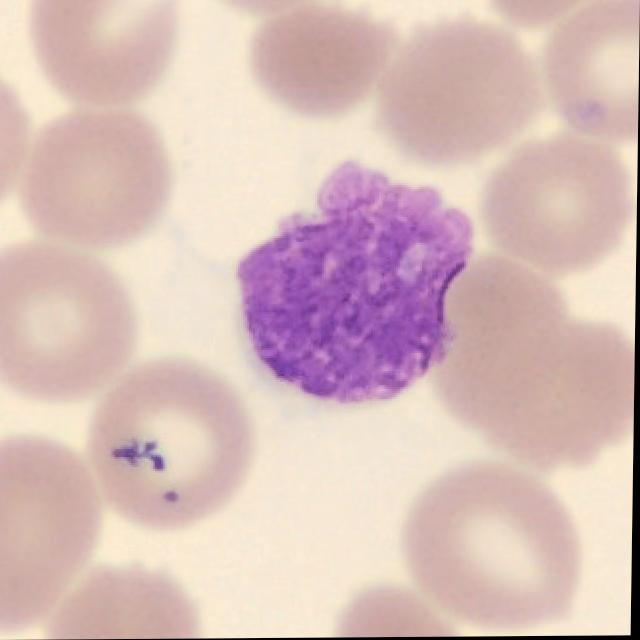Restos celulares: (237, 162, 475, 406)
